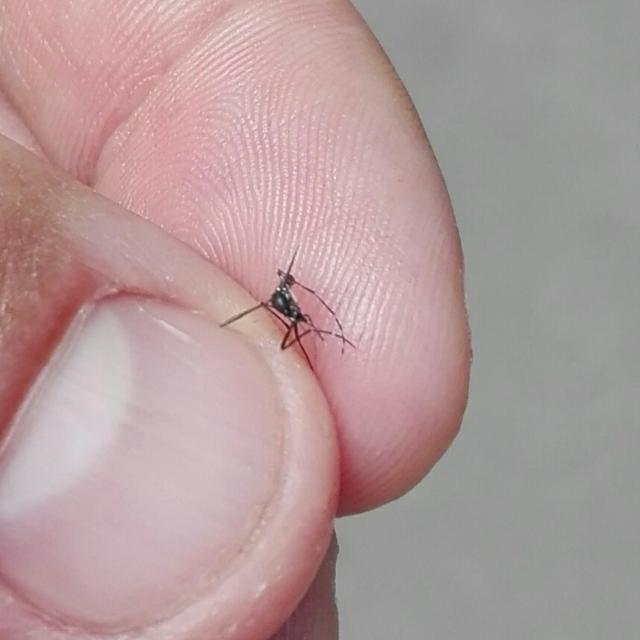albopictus: (218, 246, 356, 370)
